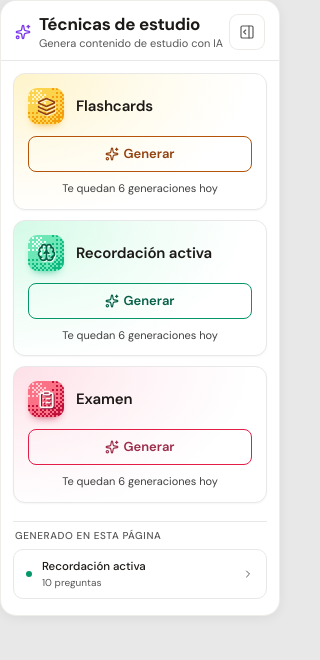
Test: TechniquesPanel › generated items list › keeps the previous recall row when re-reading the summary fails
Click the button with test id "generate-recall-questions" at (140, 300), box [28, 282, 252, 318]
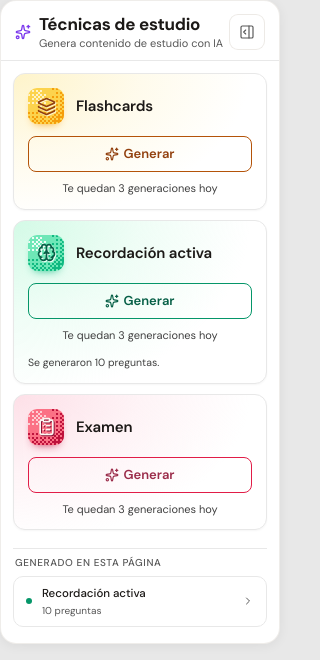
Expected: the link with test id "generated-item-active-recall" shows "10 preguntas", [13, 576, 267, 627]
Expected: the text "Se generaron 10 preguntas." is shown, [28, 356, 159, 369]
